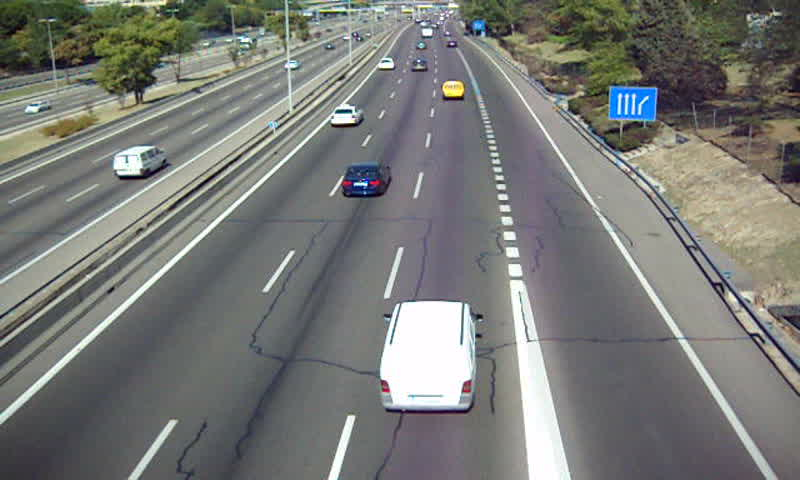car: (340, 162, 389, 198), (330, 106, 363, 126), (410, 58, 429, 73), (376, 58, 394, 71)
van: (380, 301, 479, 411), (442, 81, 465, 101)
